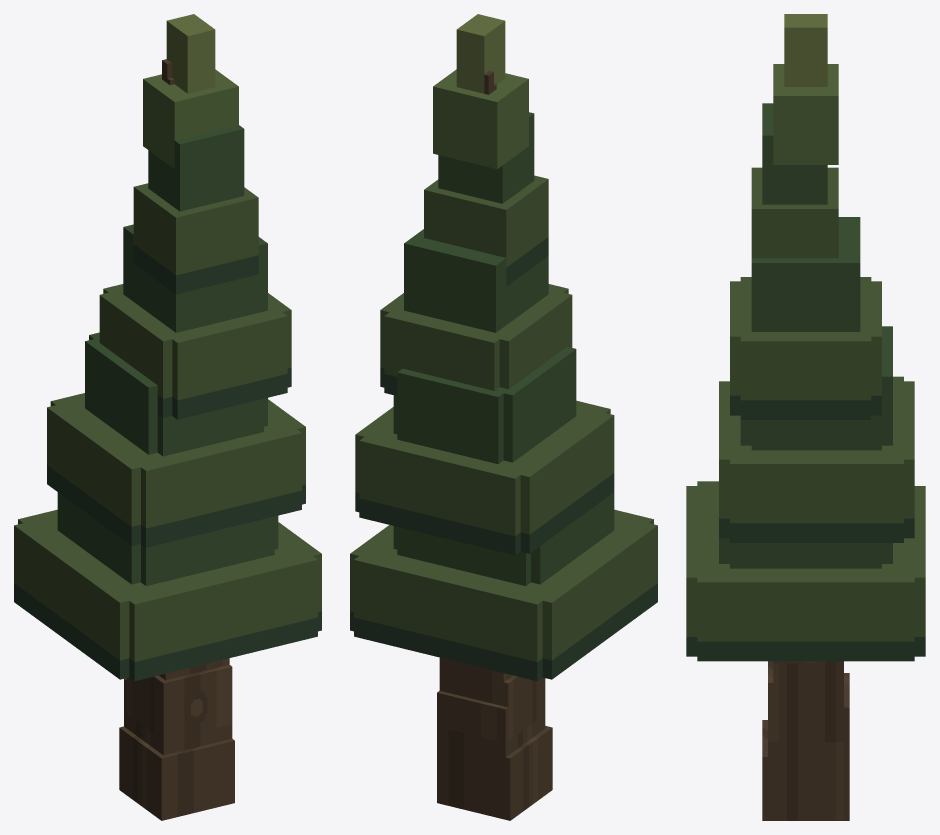
Rendered from pine_mature_3.glb.
3 views of the same model, side by side, from view 1: azimuth 30°, elevation 25°; view 2: azimuth 150°, elevation 25°; view 3: azimuth 270°, elevation 25° (orthographic). The views are drawn at different scales.
Visible parts, largest first — view 1: VoxelVisual; view 2: VoxelVisual; view 3: VoxelVisual.
Part boxes in pixels (<box>): VoxelVisual: <box>14,14,321,820</box>; VoxelVisual: <box>350,14,657,820</box>; VoxelVisual: <box>686,14,925,820</box>.
Size of what is drawn, in the model's own units: 5.5 by 20 by 5.5.
